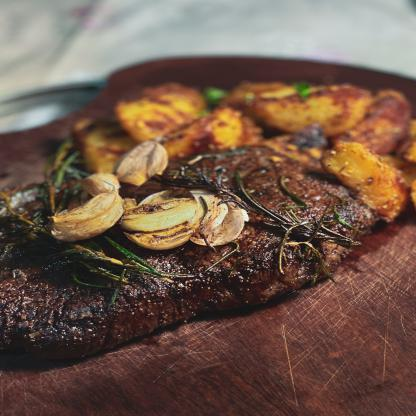Carne: (2, 131, 380, 378)
